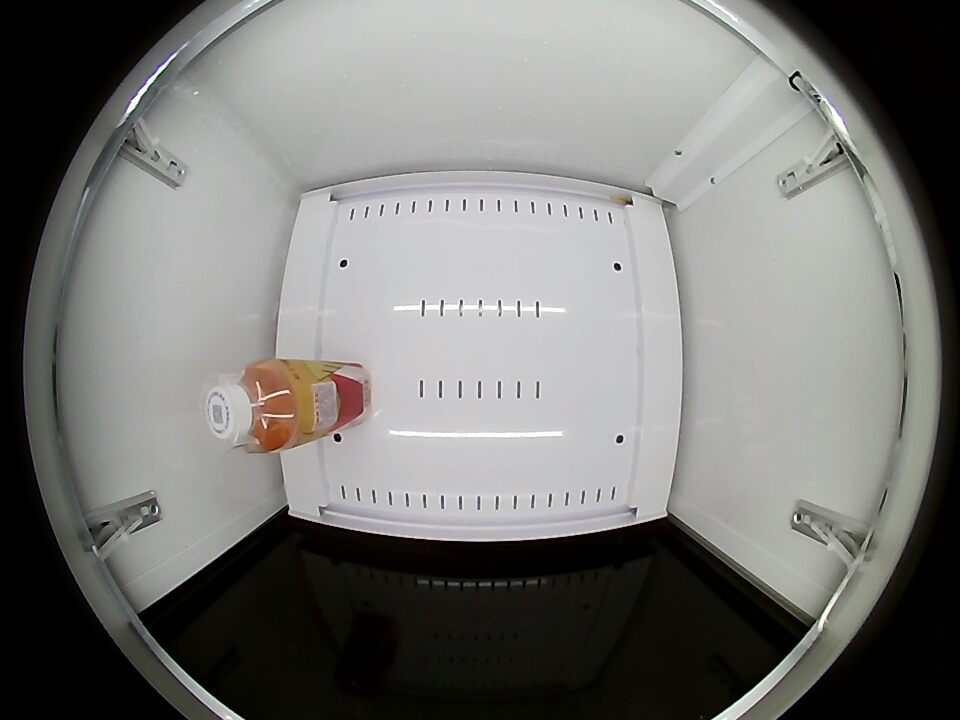dongpeng-b: (203, 359, 306, 453)
